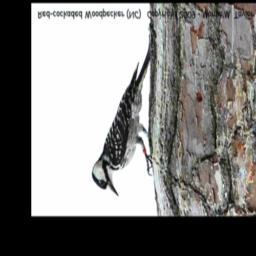Woodpecker: (90, 33, 155, 197)
